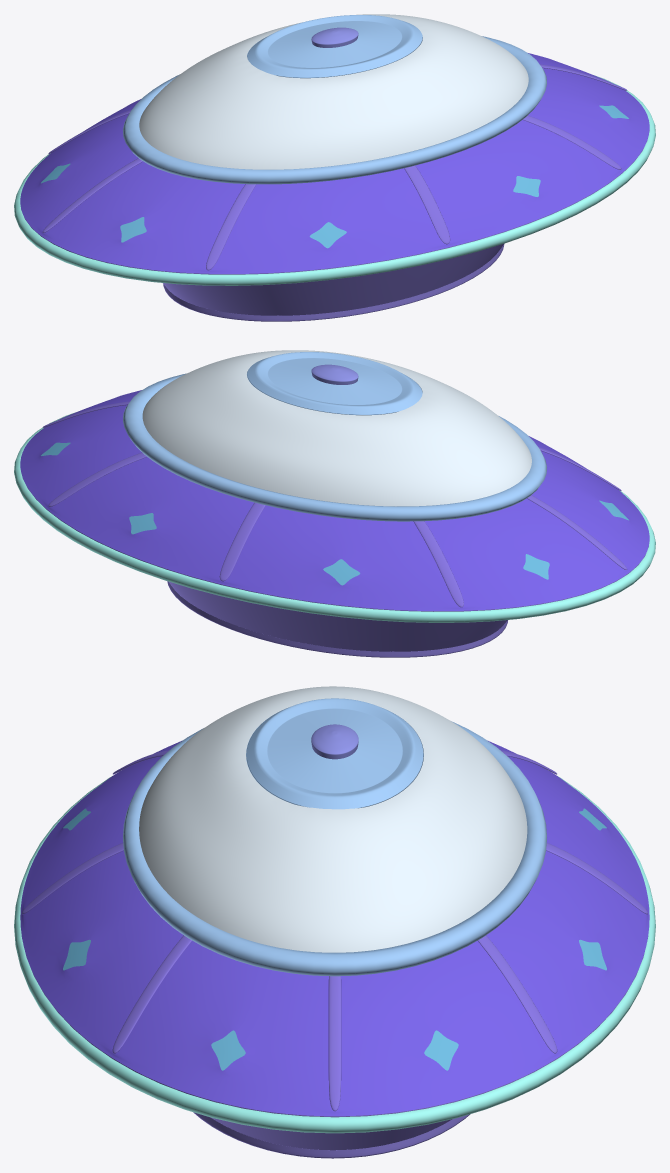
The model's file is UFO 최종.fbx.
3 views of the same model, one above another, from view 1: azimuth 30°, elevation 25°; view 2: azimuth 150°, elevation 25°; view 3: azimuth 270°, elevation 25° (orthographic). The views are drawn at different scales.
Visible parts, largest first — view 1: Circle.043, Circle.015, Circle.019, Circle.042, Circle.038, Circle.040, Circle.044, Circle.045, Circle.037, Circle.036; view 2: Circle.043, Circle.015, Circle.019, Circle.042, Circle.038, Circle.040, Circle.044, Circle.045, Circle.036, Circle.037; view 3: Circle.043, Circle.015, Circle.042, Circle.040, Circle.038, Circle.044, Circle.019, Circle.045, Circle.036, Circle.037.
Boxes of the visible parts, box(x1,y1,x2,y2) form: Circle.043: box(20, 53, 649, 273); Circle.015: box(139, 14, 528, 169); Circle.019: box(163, 243, 504, 321); Circle.042: box(123, 36, 546, 184); Circle.038: box(14, 75, 655, 285); Circle.040: box(247, 15, 422, 78); Circle.044: box(42, 64, 627, 270); Circle.045: box(41, 105, 628, 248); Circle.037: box(21, 148, 643, 274); Circle.036: box(311, 27, 358, 47); Circle.043: box(20, 390, 649, 610); Circle.015: box(142, 350, 531, 506); Circle.019: box(167, 581, 507, 657); Circle.042: box(123, 373, 546, 521); Circle.038: box(14, 412, 655, 622); Circle.040: box(246, 352, 422, 415); Circle.044: box(42, 401, 627, 607); Circle.045: box(41, 442, 628, 585); Circle.036: box(311, 364, 358, 384); Circle.037: box(22, 478, 648, 611); Circle.043: box(20, 740, 649, 1116); Circle.015: box(139, 686, 527, 952); Circle.042: box(123, 721, 546, 976); Circle.040: box(246, 698, 423, 809); Circle.038: box(14, 776, 655, 1133); Circle.044: box(22, 750, 647, 1111); Circle.019: box(193, 1112, 470, 1158); Circle.045: box(63, 808, 606, 1070); Circle.036: box(311, 724, 358, 759); Circle.037: box(21, 936, 648, 1117).
Size of what is drawn, in the model's own units: 209 by 76.59 by 140.
